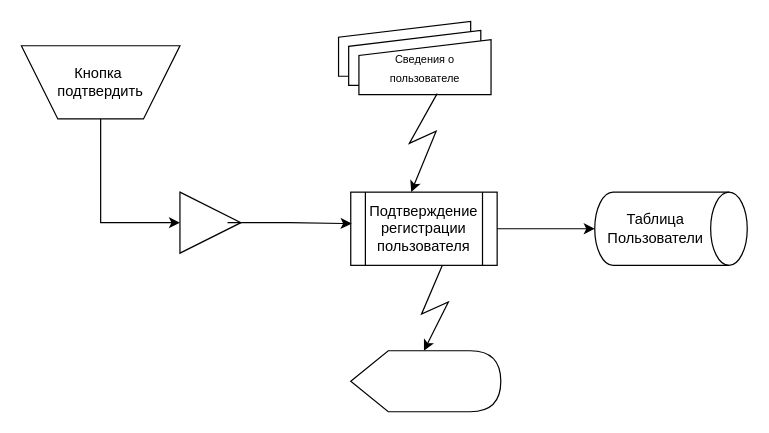
The diagram is 769 pixels wide and 433 high, and some of its shapes have lost their labels. The box of each missing label's shape, as (x1, y1, x2, y2) in pixels:
onclick: (179, 191, 241, 253)
Сообщение об успехе или ошибке: (350, 350, 501, 412)
